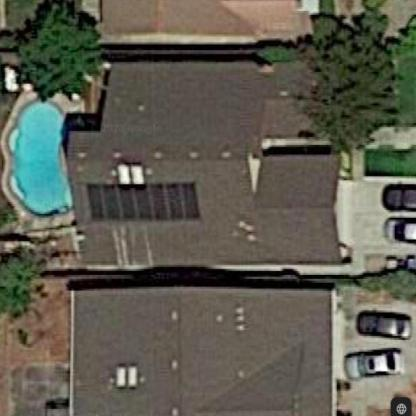car: (355, 298, 414, 344), (340, 350, 407, 385), (377, 180, 416, 212), (378, 214, 416, 245)
solar_panel: (84, 175, 204, 228)
swimming_pool: (1, 73, 79, 227)
